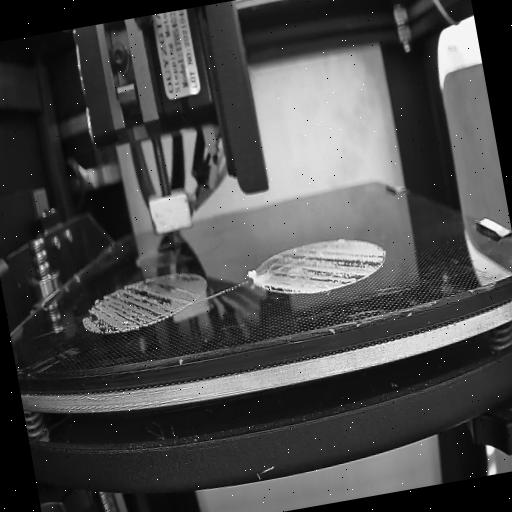under_extrusion: (256, 232, 390, 299), (80, 280, 179, 338), (172, 268, 200, 287)
